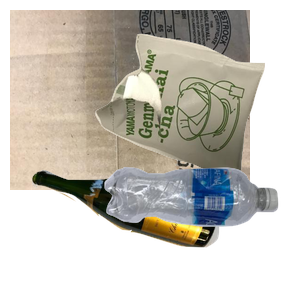cardboard: (10, 10, 250, 190)
glass: (29, 167, 241, 300)
plastic: (102, 165, 300, 300)
trash: (93, 31, 300, 205)
